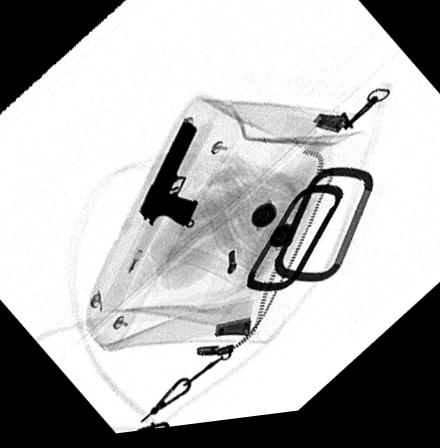Gun: (137, 125, 199, 231)
